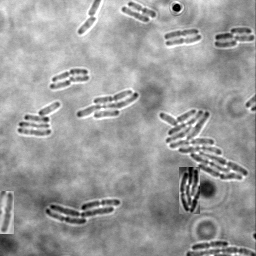Dividing: (0, 191, 14, 234), (52, 67, 89, 81), (128, 1, 157, 18), (166, 34, 202, 47), (164, 28, 200, 39), (192, 239, 229, 249)
Microcolony: (158, 109, 249, 180), (76, 88, 139, 119), (45, 199, 121, 224), (18, 101, 61, 136), (179, 167, 200, 214), (214, 27, 255, 48)
Rod: (121, 5, 150, 23), (78, 16, 99, 34), (50, 79, 72, 89), (69, 73, 90, 82)
